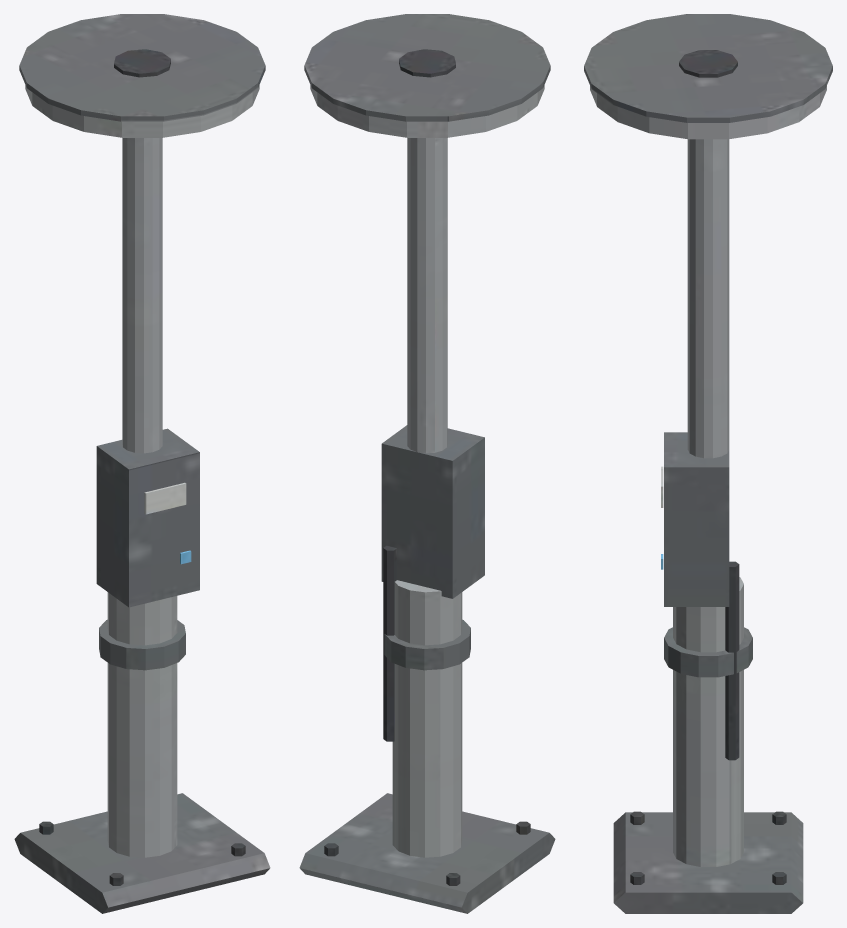
File: antenna_tex.glb
3 views of the same model, side by side, from view 1: azimuth 30°, elevation 25°; view 2: azimuth 150°, elevation 25°; view 3: azimuth 270°, elevation 25° (orthographic).
Visible parts, largest first — view 1: antenna_base; view 2: antenna_base; view 3: antenna_base.
Boxes of the visible parts, <box> form: antenna_base: <box>14,14,270,913</box>; antenna_base: <box>299,14,555,913</box>; antenna_base: <box>584,14,832,913</box>.
Bounding box in the file's own units: 0.1034 × 0.378 × 0.105.
1 material, 1 textured.
